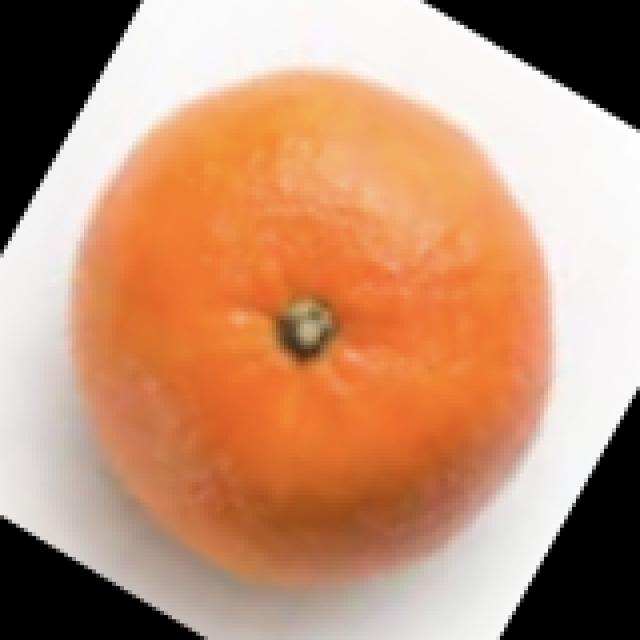matang: (55, 57, 550, 589)
